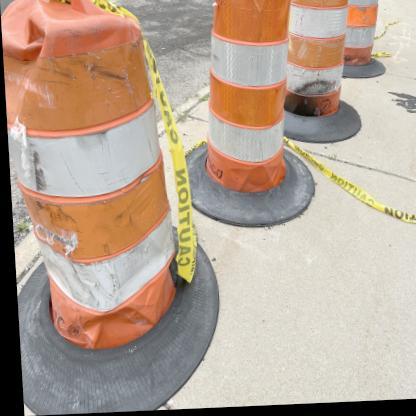obstacle: (4, 0, 180, 354), (212, 0, 285, 199)
